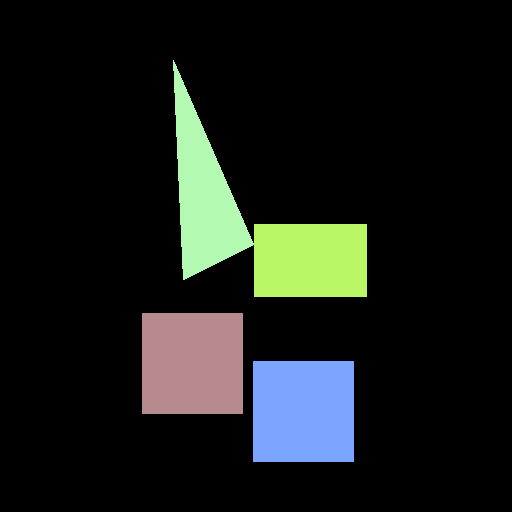circle: (173, 60, 366, 296)
square: (253, 361, 353, 461), (142, 313, 242, 413)
